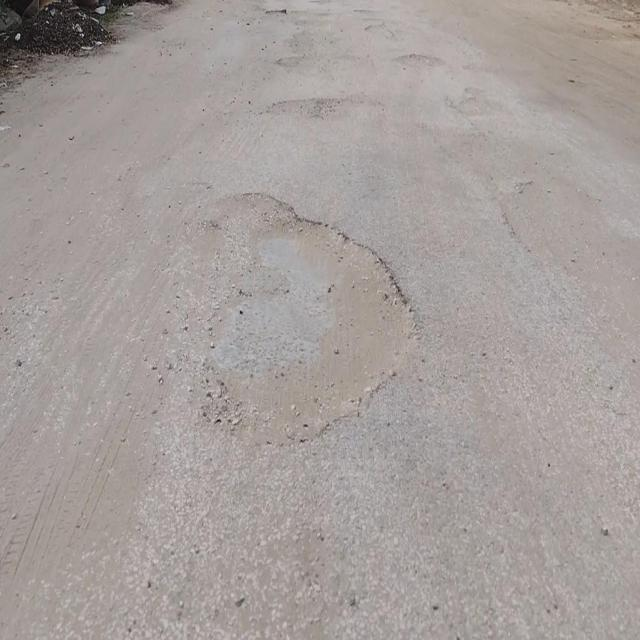Potholes: (191, 189, 418, 454)
